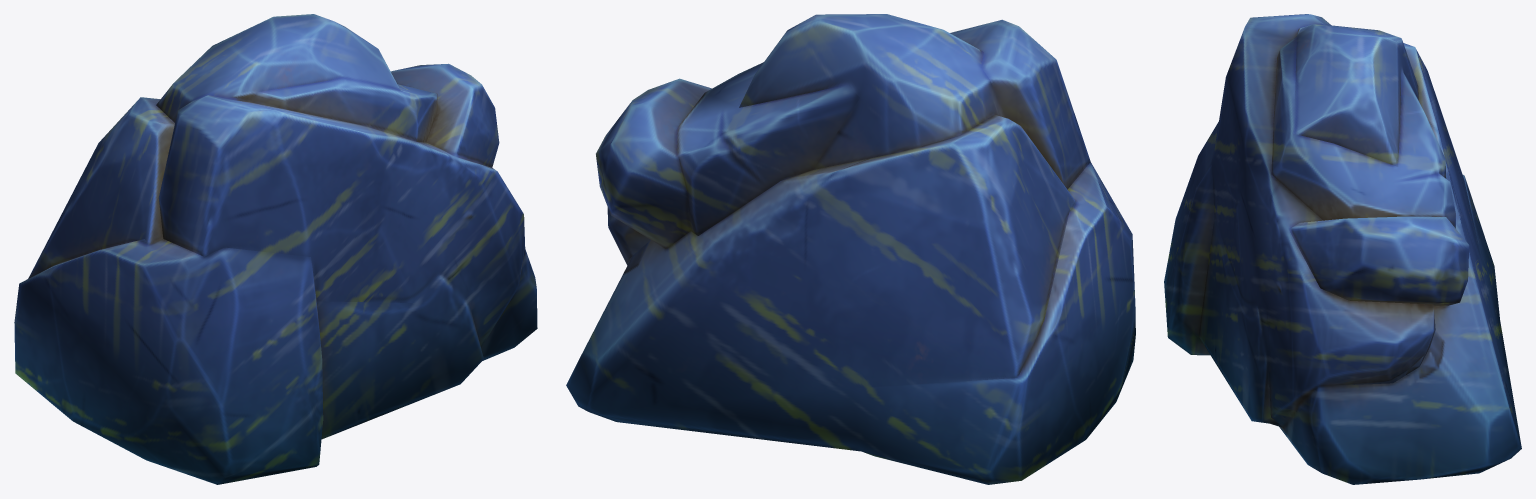
Rendered from SM_Gem_LapisLazuli_004.fbx.
3 views of the same model, side by side, from view 1: azimuth 30°, elevation 25°; view 2: azimuth 150°, elevation 25°; view 3: azimuth 270°, elevation 25° (orthographic). The views are drawn at different scales.
Visible parts, largest first — view 1: SM_Gem_LapisLazuli_004; view 2: SM_Gem_LapisLazuli_004; view 3: SM_Gem_LapisLazuli_004.
Boxes of the visible parts, left/top/right/bottom form: SM_Gem_LapisLazuli_004: left=14, top=14, right=537, bottom=484; SM_Gem_LapisLazuli_004: left=566, top=14, right=1135, bottom=484; SM_Gem_LapisLazuli_004: left=1164, top=14, right=1521, bottom=484.
Bounding box in the file's own units: 62.71 × 47.94 × 45.23.
